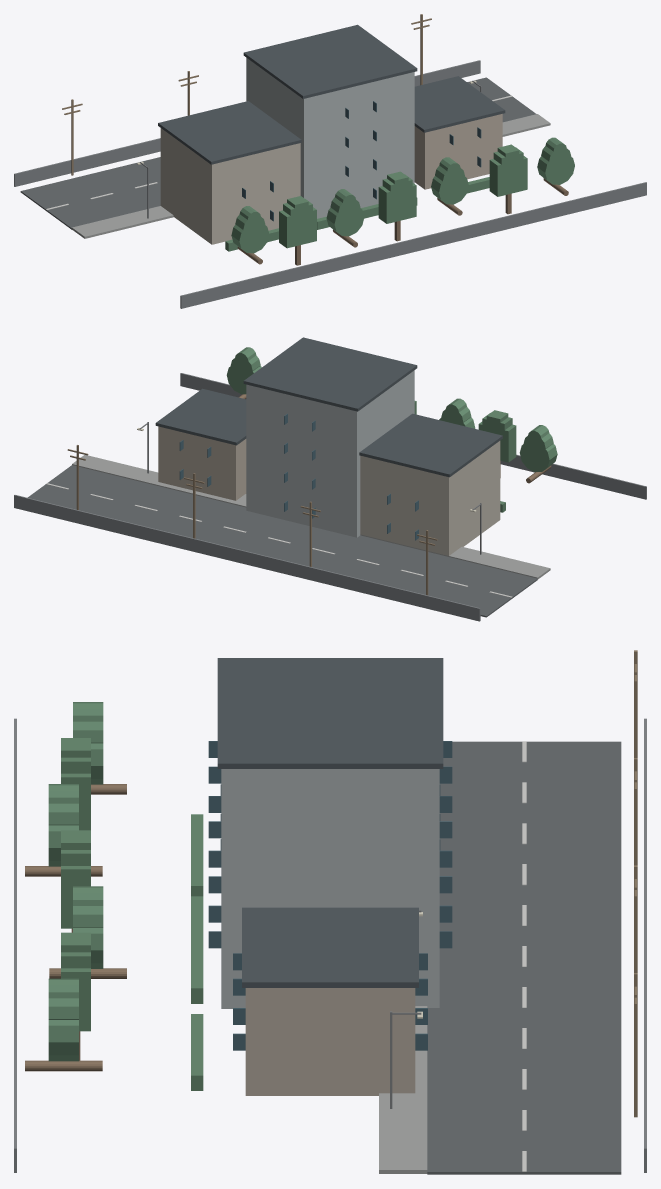
File: suburban_corridor_modules.glb
3 views of the same model, one above another, from view 1: azimuth 30°, elevation 25°; view 2: azimuth 150°, elevation 25°; view 3: azimuth 270°, elevation 25° (orthographic). The views are drawn at different scales.
Visible parts, largest first — view 1: building_1, building_0, building_1_roof, road_surface, boundary_fence_13, building_0_roof, building_2, building_2_roof, boundary_fence_-13, sidewalk, extra_tree_canopy_0_3.3, extra_tree_canopy_-9_3.3 (+7 smaller); view 2: road_surface, building_1, building_0, building_1_roof, boundary_fence_-13, building_0_roof, building_2, building_2_roof, sidewalk, boundary_fence_13, tree_canopy_-13_3.3, extra_tree_canopy_-9_3.3 (+2 smaller); view 3: road_surface, building_1, building_1_roof, building_2, building_2_roof, sidewalk, hedge_1, boundary_fence_-13, boundary_fence_13, tree_canopy_14_3.3, extra_tree_canopy_0_3.3, hedge_0 (+4 smaller).
Part boxes in pixels (box(x1,y1,x2,y2)): building_1: box(246, 58, 414, 218); building_0: box(160, 128, 300, 244); building_1_roof: box(243, 24, 417, 98); road_surface: box(20, 77, 536, 229); boundary_fence_13: box(180, 182, 646, 308); building_0_roof: box(158, 101, 301, 164); building_2: box(414, 114, 502, 189); building_2_roof: box(414, 76, 505, 132); boundary_fence_-13: box(14, 60, 480, 186); sidewalk: box(72, 114, 550, 238); extra_tree_canopy_0_3.3: box(378, 183, 416, 223); extra_tree_canopy_-9_3.3: box(279, 207, 316, 248); road_surface: box(27, 465, 537, 617); building_1: box(246, 370, 414, 537); building_0: box(360, 441, 500, 556); building_1_roof: box(243, 337, 417, 411); boundary_fence_-13: box(14, 495, 480, 621); building_0_roof: box(359, 413, 502, 477); building_2: box(158, 426, 246, 500); building_2_roof: box(155, 388, 246, 445); sidewalk: box(72, 455, 550, 579); boundary_fence_13: box(180, 373, 646, 499); tree_canopy_-13_3.3: box(519, 441, 557, 472); extra_tree_canopy_-9_3.3: box(478, 421, 516, 462); road_surface: box(427, 741, 621, 1174); building_1: box(221, 769, 439, 1008); building_1_roof: box(217, 658, 443, 768); building_2: box(245, 988, 415, 1095); building_2_roof: box(242, 907, 418, 987); sidewalk: box(379, 1006, 427, 1173); hedge_1: box(191, 896, 203, 1003); boundary_fence_-13: box(644, 718, 646, 1172); boundary_fence_13: box(14, 718, 16, 1172); tree_canopy_14_3.3: box(48, 1020, 78, 1061); extra_tree_canopy_0_3.3: box(61, 866, 90, 928); hedge_0: box(191, 814, 203, 896).
Bounding box in the file's own units: 42 × 11.32 × 26.12.
